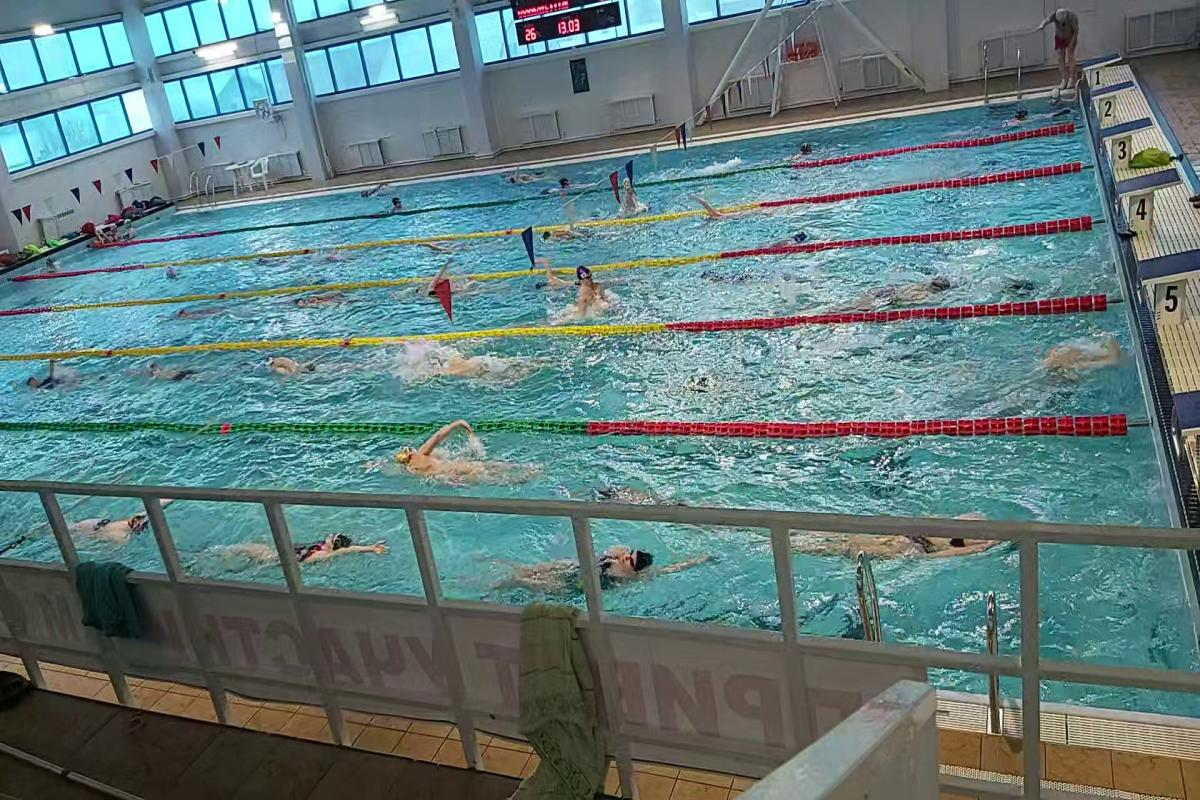swimmer: (492, 542, 673, 600), (212, 524, 397, 578), (372, 422, 522, 488), (797, 529, 1009, 570), (590, 466, 701, 514), (422, 342, 526, 393), (36, 508, 159, 550), (856, 266, 960, 304), (565, 266, 630, 326), (258, 353, 342, 387), (18, 359, 78, 400), (522, 248, 567, 293), (532, 221, 598, 251), (292, 283, 353, 313), (147, 359, 207, 388), (686, 190, 737, 222), (402, 264, 438, 299)
